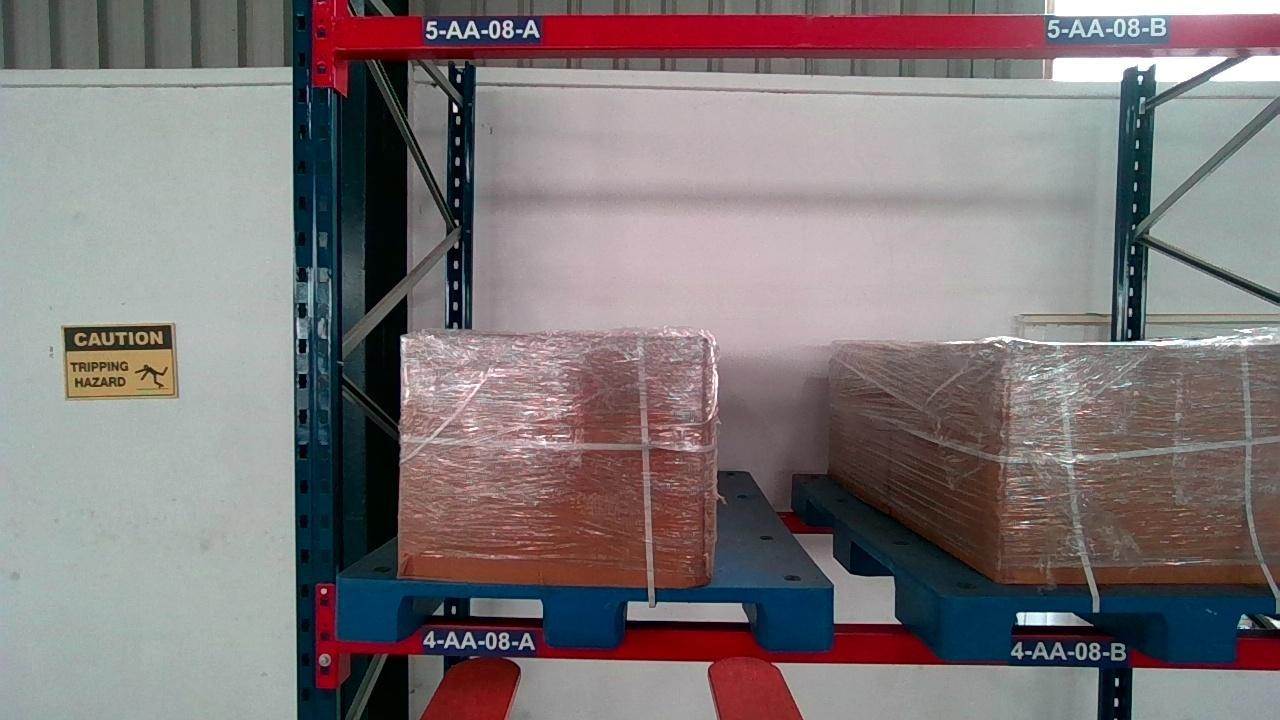h_rack: (336, 623, 1280, 666), (334, 14, 1280, 51)
small_pallet: (336, 578, 836, 650), (943, 591, 1280, 663)
